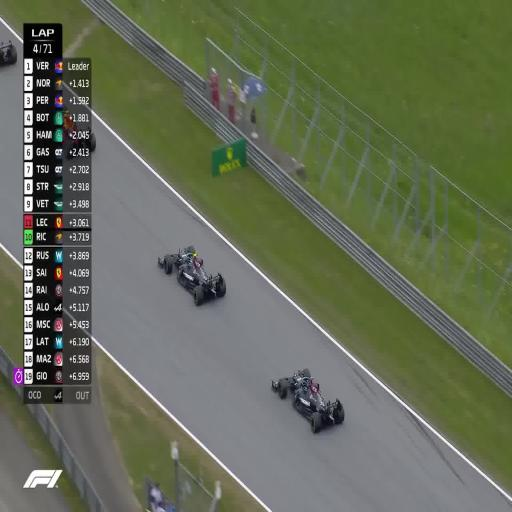f1_car: (272, 368, 344, 432), (158, 246, 226, 305), (63, 122, 96, 159), (0, 40, 17, 65)
